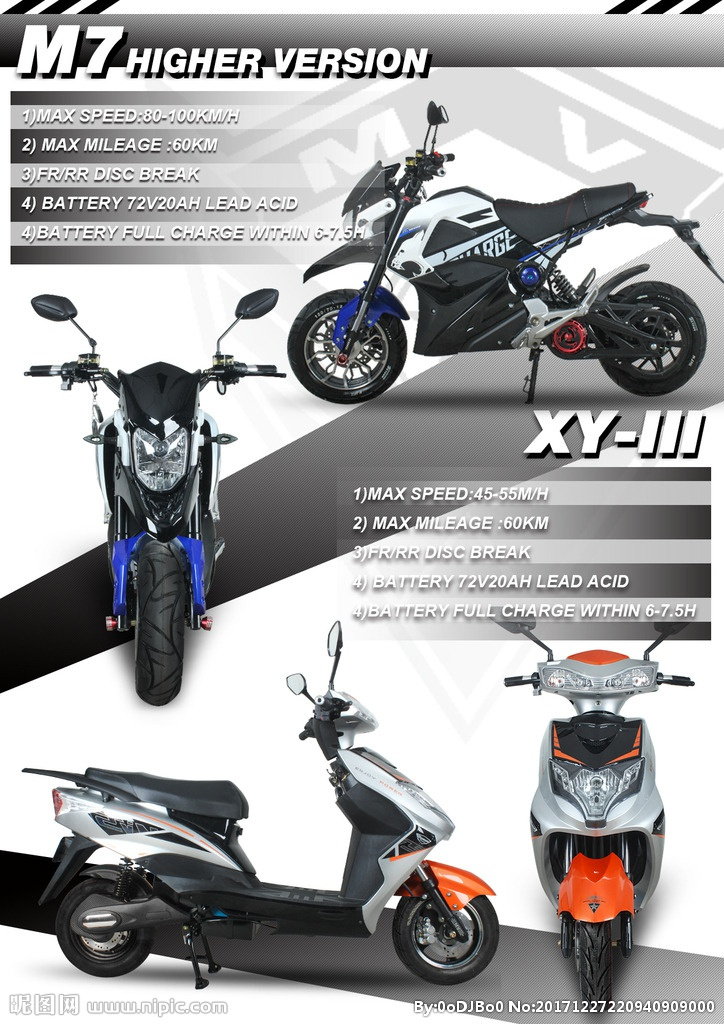non-vehicle: (32, 684, 501, 989), (290, 104, 709, 404), (19, 284, 280, 707), (494, 609, 692, 1011)
